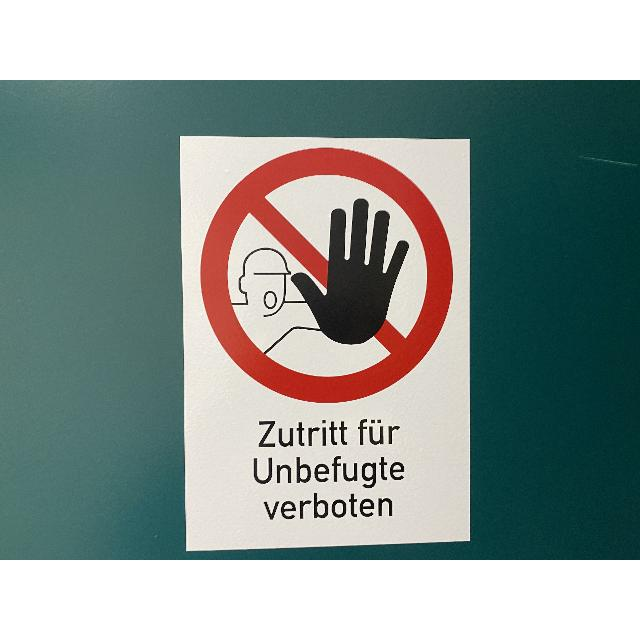No access for unauthorized persons: (200, 146, 452, 404)
